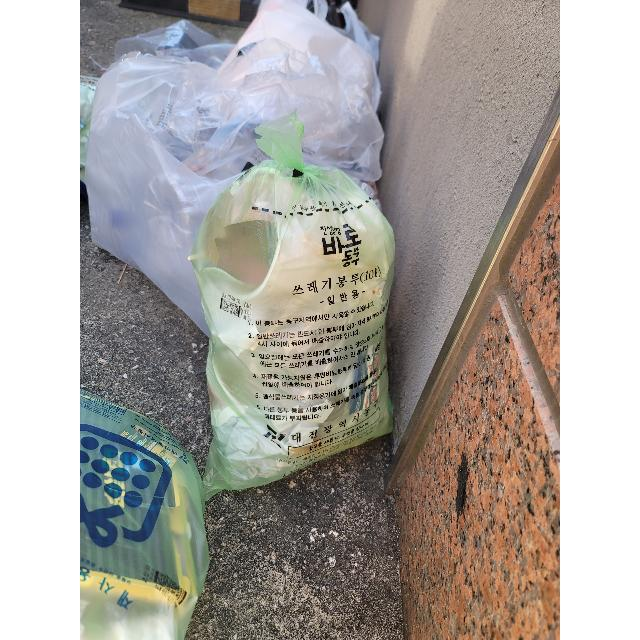general_trashbag: (190, 112, 394, 496), (80, 390, 209, 640)
other_trashbag: (86, 0, 384, 332)
